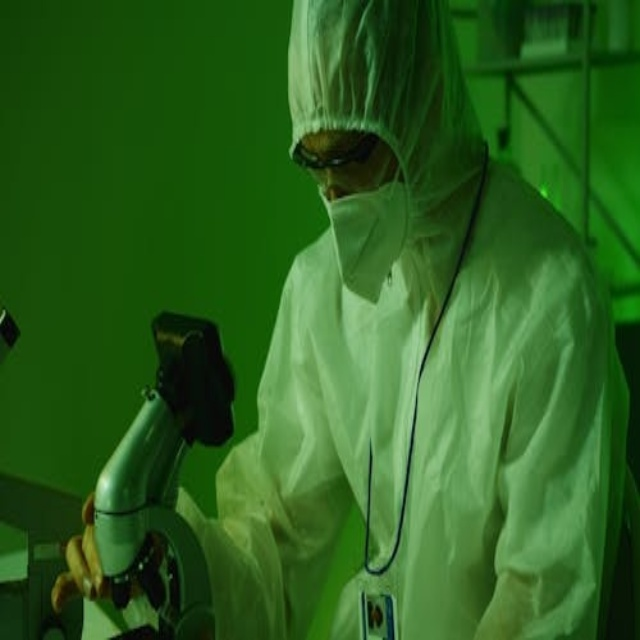Gafas: (293, 131, 380, 172)
Mascara: (320, 151, 412, 301)
Sin_guantes: (50, 484, 162, 618)
